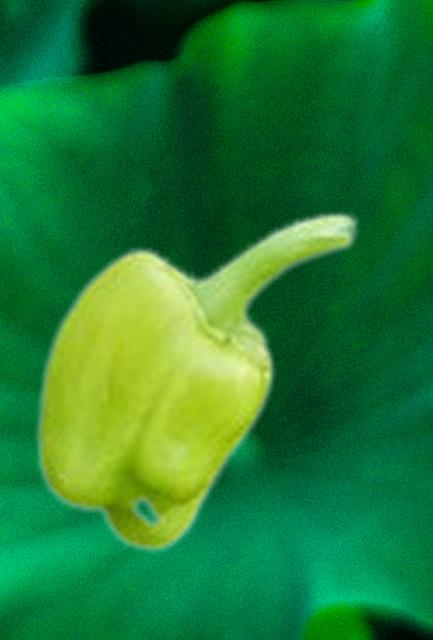bell_pepper: (33, 209, 360, 553)
